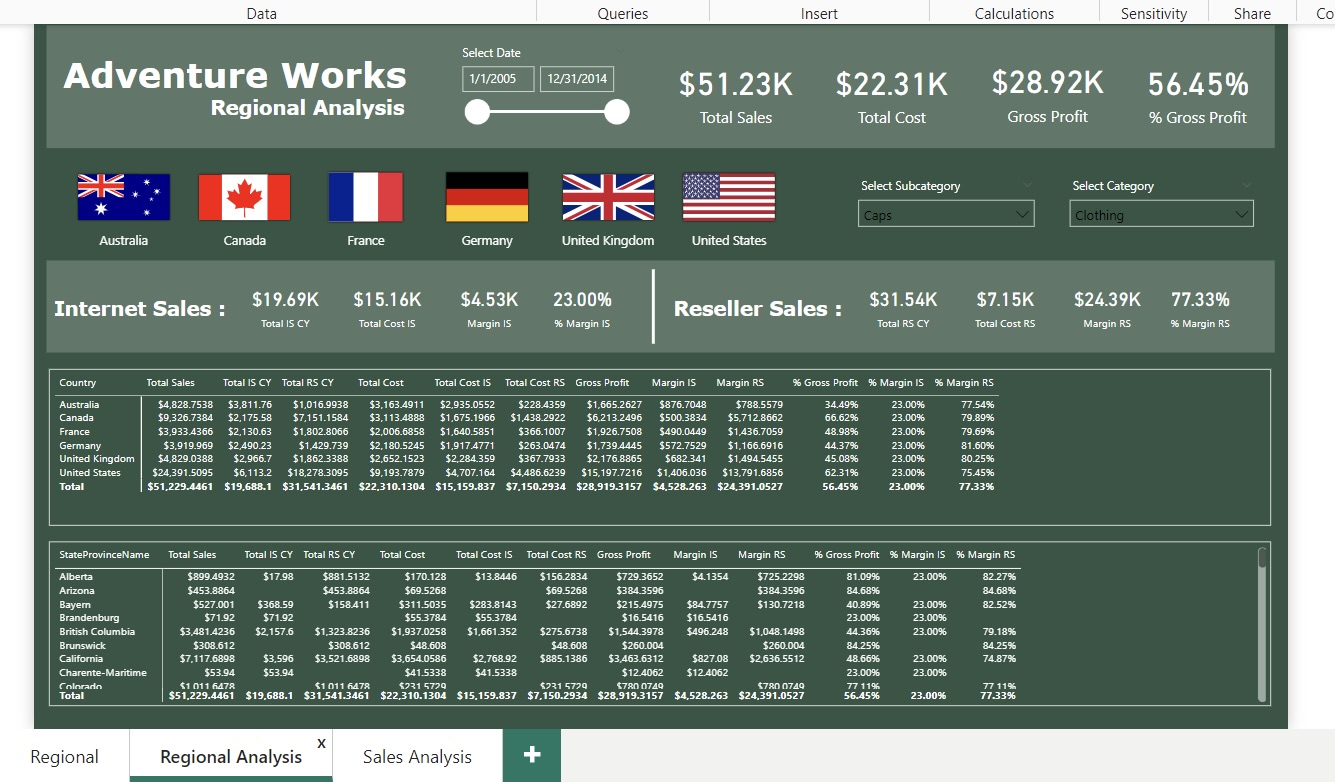

The page's visual inventory and layout, read from the dashboard file:
{"tool":"powerbi","page":{"name":"Regional Analysis","canvas":[1280,720],"ordinal":1},"visuals":[{"type":"pivotTable","fields":{"Values":["All Measures.Total Sales","All Measures.Total IS CY","All Measures.Total RS CY","All Measures.Total Cost","All Measures.Total Cost IS","All Measures.Total Cost RS","All Measures.Gross Profit","All Measures.Margin IS","All Measures.Margin RS","All Measures.% Gross Profit","All Measures.% Margin IS","All Measures.% Margin RS"],"Rows":["DimGeography.EnglishCountryRegionName"]},"box":[16,352,1248,160],"z":0},{"type":"pivotTable","fields":{"Values":["All Measures.Total Sales","All Measures.Total IS CY","All Measures.Total RS CY","All Measures.Total Cost","All Measures.Total Cost IS","All Measures.Total Cost RS","All Measures.Gross Profit","All Measures.Margin IS","All Measures.Margin RS","All Measures.% Gross Profit","All Measures.% Margin IS","All Measures.% Margin RS"],"Rows":["DimGeography.StateProvinceName"]},"box":[16,528,1248,168],"z":1000},{"type":"basicShape","box":[0,0,1280,128],"z":2000},{"type":"basicShape","box":[0,240,1280,96],"z":3000},{"type":"basicShape","box":[600,240,64,96],"z":4000},{"type":"textbox","box":[24,24,376,88],"z":5000},{"type":"card","fields":{"Values":["All Measures.Total Sales"]},"box":[640,24,152,88],"z":6000},{"type":"card","fields":{"Values":["All Measures.Total Cost"]},"box":[800,24,152,88],"z":7000},{"type":"card","fields":{"Values":["All Measures.Gross Profit"]},"box":[958.9,22.3,152,88],"z":8000},{"type":"card","fields":{"Values":["All Measures.% Gross Profit"]},"box":[1112,24,152,88],"z":9000},{"type":"card","fields":{"Values":["All Measures.Total IS CY"]},"box":[208,256,96,64],"z":10000},{"type":"card","fields":{"Values":["All Measures.Total Cost IS"]},"box":[312,256,96,64],"z":11000},{"type":"card","fields":{"Values":["All Measures.Margin IS"]},"box":[416,256,96,64],"z":12000},{"type":"card","fields":{"Values":["All Measures.% Margin IS"]},"box":[512,256,96,64],"z":13000},{"type":"card","fields":{"Values":["All Measures.% Margin RS"]},"box":[1143.4,256.6,96,64],"z":14000},{"type":"card","fields":{"Values":["All Measures.Margin RS"]},"box":[1047.4,256.6,96,64],"z":15000},{"type":"card","fields":{"Values":["All Measures.Total Cost RS"]},"box":[943.4,256.6,96,64],"z":16000},{"type":"card","fields":{"Values":["All Measures.Total RS CY"]},"box":[839.4,256.6,96,64],"z":17000},{"type":"slicer","fields":{"Values":["DimDate.FullDateAlternateKey"]},"box":[424,16,192,112],"z":18000},{"type":"enlightenWorldFlagsE887F52F76244B1C927F80CF9724AEF6","fields":{"code":["DimGeography.EnglishCountryRegionName"]},"box":[24,136,752,120],"z":19000},{"type":"slicer","fields":{"Values":["DimProductSubcategory.EnglishProductSubcategoryName"]},"box":[832,152,200,80],"z":20000},{"type":"slicer","fields":{"Values":["DimProductCategory.EnglishProductCategoryName"]},"box":[1048,152,208,80],"z":21000},{"type":"textbox","box":[16,272,200,48],"z":22000},{"type":"textbox","box":[648,272,216,48],"z":23000}]}

Visuals, with their boxes on the page's 1280x720 design canvas (x1, y1, x2, y2). These are canvas units, not pixel positions in the 1335x782 screenshot, which may show the page scaled, cropped or inside an application window:
pivotTable - All Measures.Total Sales x All Measures.Total IS CY: [left=16, top=352, right=1264, bottom=512]
pivotTable - All Measures.Total Sales x All Measures.Total IS CY: [left=16, top=528, right=1264, bottom=696]
basicShape: [left=0, top=0, right=1280, bottom=128]
basicShape: [left=0, top=240, right=1280, bottom=336]
basicShape: [left=600, top=240, right=664, bottom=336]
textbox: [left=24, top=24, right=400, bottom=112]
card - All Measures.Total Sales: [left=640, top=24, right=792, bottom=112]
card - All Measures.Total Cost: [left=800, top=24, right=952, bottom=112]
card - All Measures.Gross Profit: [left=959, top=22, right=1111, bottom=110]
card - All Measures.% Gross Profit: [left=1112, top=24, right=1264, bottom=112]
card - All Measures.Total IS CY: [left=208, top=256, right=304, bottom=320]
card - All Measures.Total Cost IS: [left=312, top=256, right=408, bottom=320]
card - All Measures.Margin IS: [left=416, top=256, right=512, bottom=320]
card - All Measures.% Margin IS: [left=512, top=256, right=608, bottom=320]
card - All Measures.% Margin RS: [left=1143, top=257, right=1239, bottom=321]
card - All Measures.Margin RS: [left=1047, top=257, right=1143, bottom=321]
card - All Measures.Total Cost RS: [left=943, top=257, right=1039, bottom=321]
card - All Measures.Total RS CY: [left=839, top=257, right=935, bottom=321]
slicer - DimDate.FullDateAlternateKey: [left=424, top=16, right=616, bottom=128]
enlightenWorldFlagsE887F52F76244B1C927F80CF9724AEF6 - DimGeography.EnglishCountryRegionName: [left=24, top=136, right=776, bottom=256]
slicer - DimProductSubcategory.EnglishProductSubcategoryName: [left=832, top=152, right=1032, bottom=232]
slicer - DimProductCategory.EnglishProductCategoryName: [left=1048, top=152, right=1256, bottom=232]
textbox: [left=16, top=272, right=216, bottom=320]
textbox: [left=648, top=272, right=864, bottom=320]
